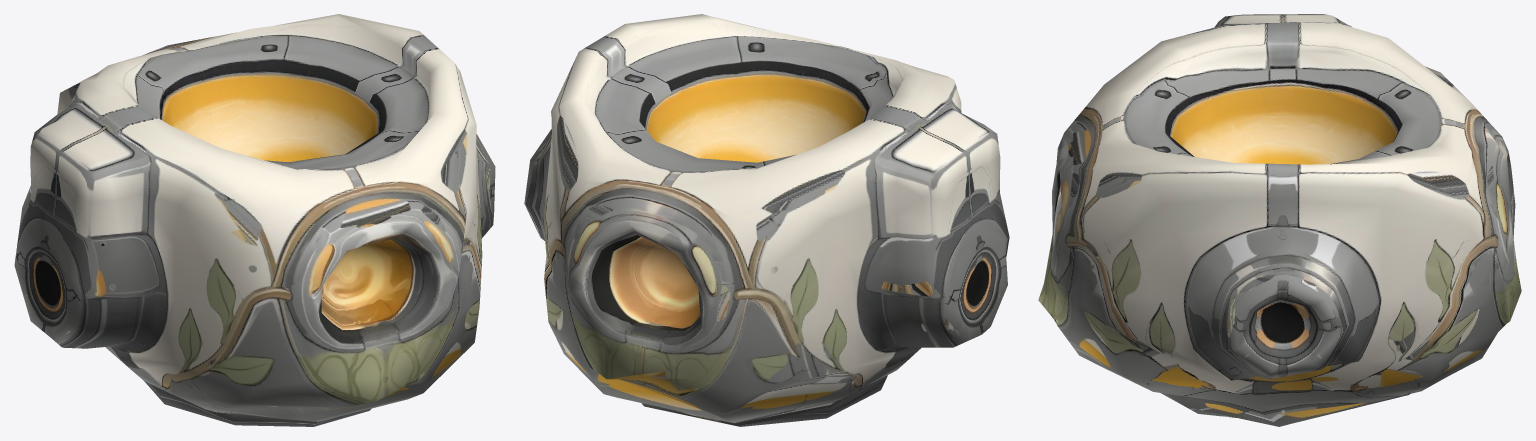
Rendered from seed_001_ritpo.glb.
3 views of the same model, side by side, from view 1: azimuth 30°, elevation 25°; view 2: azimuth 150°, elevation 25°; view 3: azimuth 270°, elevation 25° (orthographic). The views are drawn at different scales.
Visible parts, largest first — view 1: tripo_node_43476aed-e112-42df-a129-5ce5f05a8f80; view 2: tripo_node_43476aed-e112-42df-a129-5ce5f05a8f80; view 3: tripo_node_43476aed-e112-42df-a129-5ce5f05a8f80.
Boxes of the visible parts, x1,y1,x2,y2 form: tripo_node_43476aed-e112-42df-a129-5ce5f05a8f80: (14, 14, 495, 426); tripo_node_43476aed-e112-42df-a129-5ce5f05a8f80: (524, 14, 1009, 426); tripo_node_43476aed-e112-42df-a129-5ce5f05a8f80: (1038, 14, 1521, 426).
Size of the model in its own units: 0.9713 by 0.6389 by 0.9773.
1 material, 1 textured.
